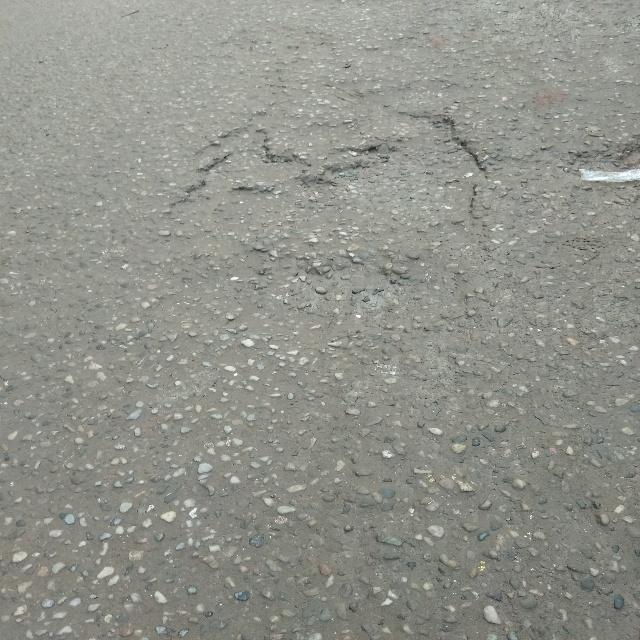Surface Erosion: (119, 44, 505, 372)
